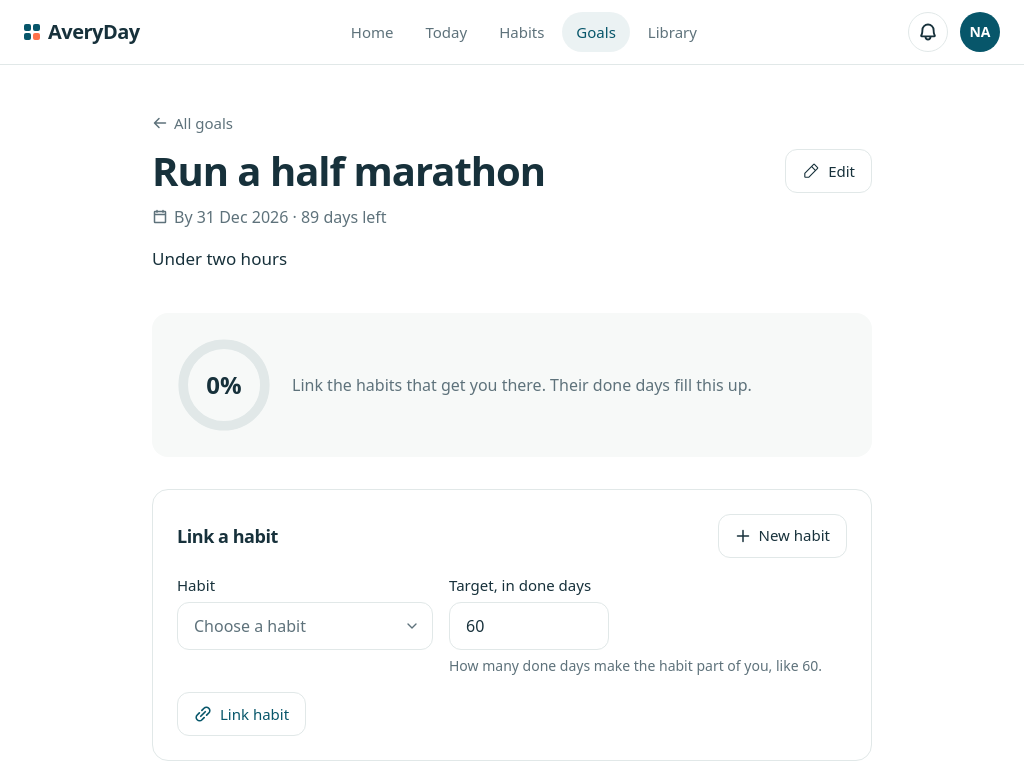
goal detail › links a habit with its target, then shows the new progress
The width and height of the screenshot is (1024, 768).
Click the dropdown labelled "habit" at x=305, y=626, box [177, 602, 433, 650]
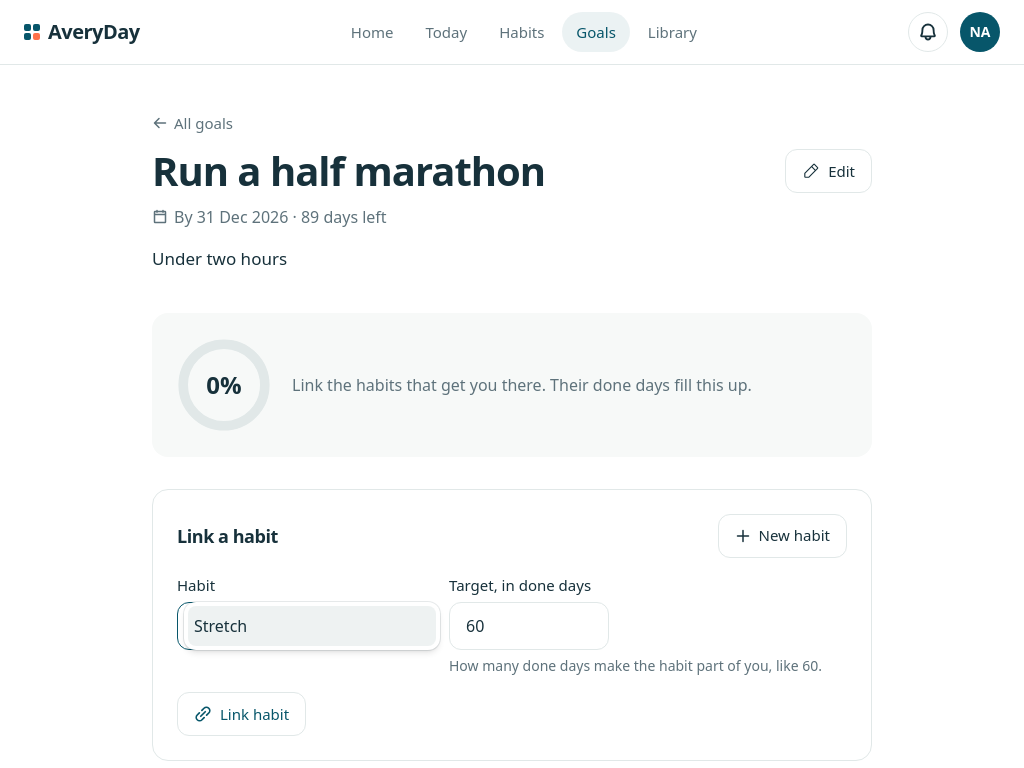
Click the option "Stretch" at x=312, y=626, box [188, 606, 436, 646]
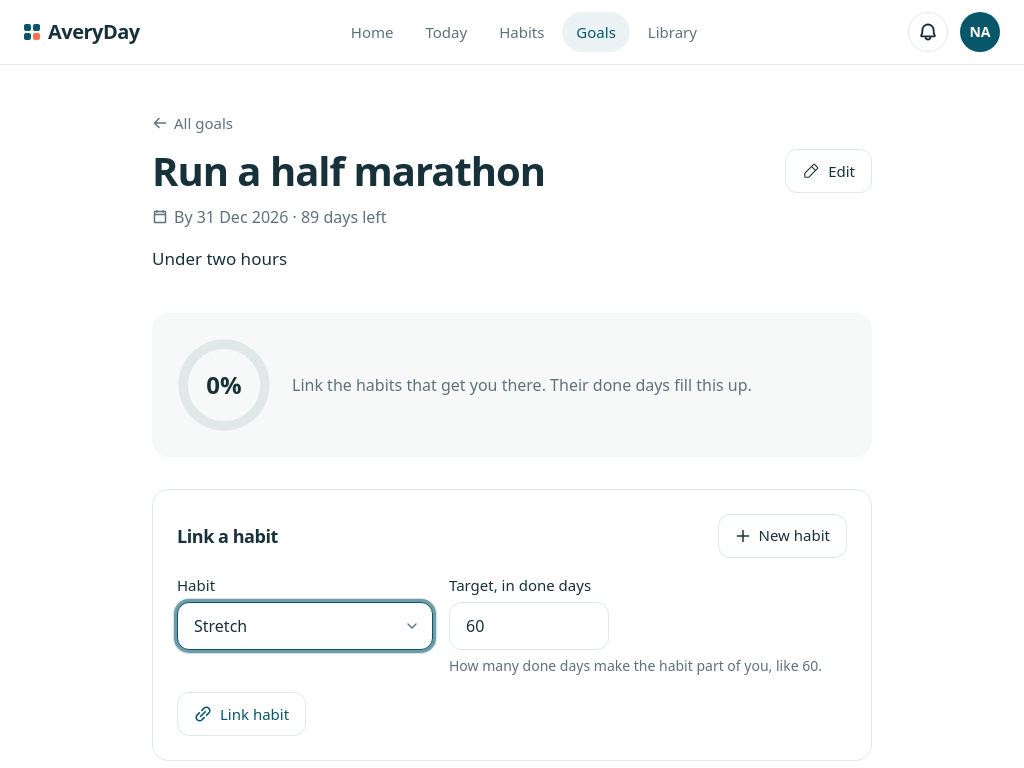
Replace the text in the number field labelled "Target, in done days" with "30" at x=529, y=626, box [449, 602, 609, 650]
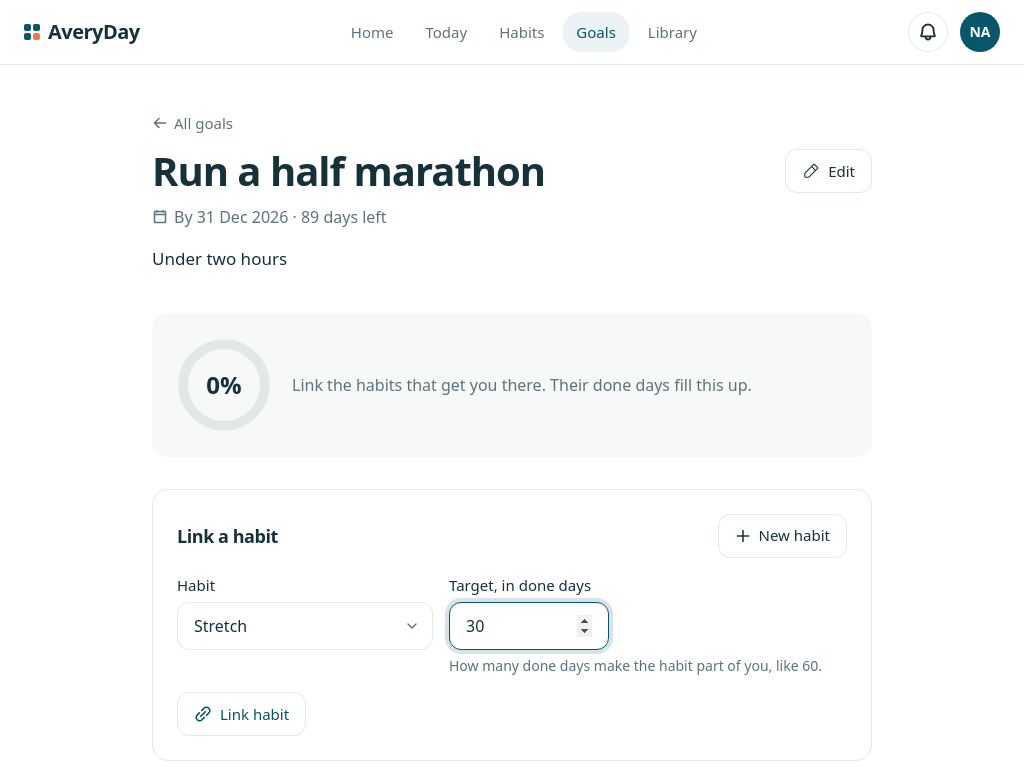
Click the button "Link habit" at x=242, y=714, box [177, 692, 306, 736]
(page scrolled)
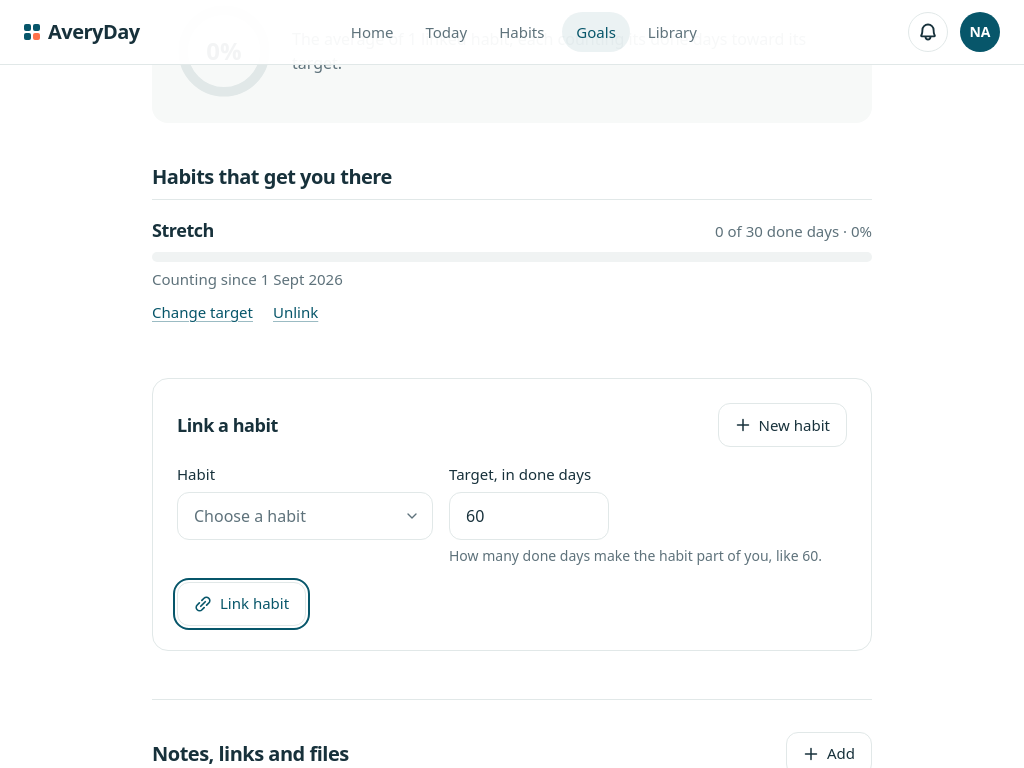
Expected: the text "0 of 30 done days · 0%" is shown, [715, 220, 872, 242]
